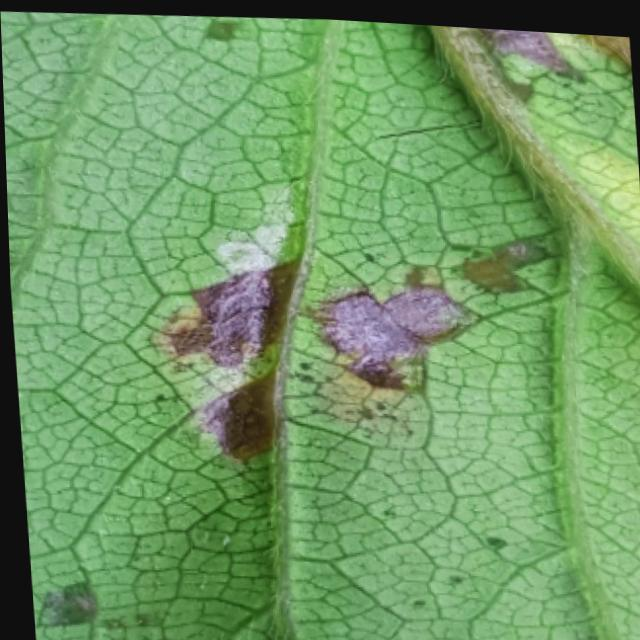Angular Leafspot: (5, 13, 640, 640)
